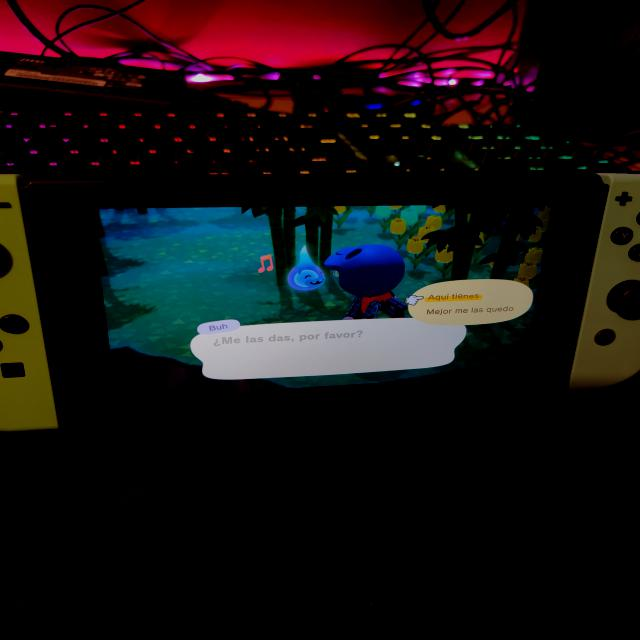text_bubble: (191, 319, 472, 382), (407, 278, 537, 326)
